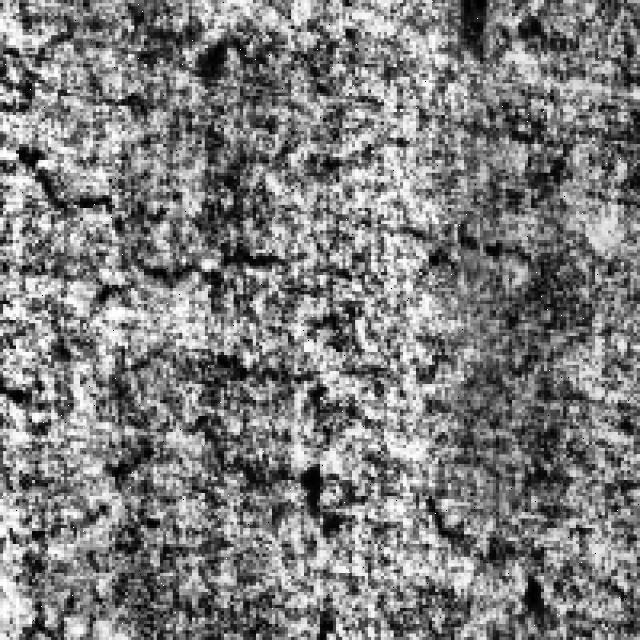Pitted_Surface: (29, 25, 336, 282)
